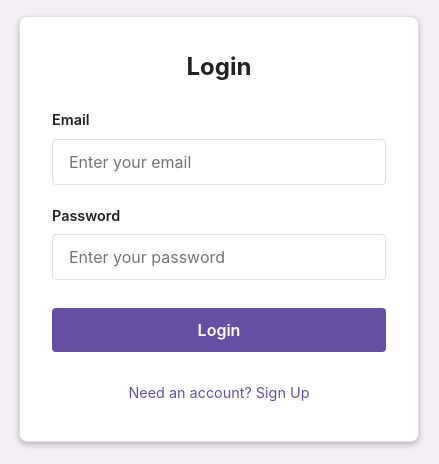
it: Auth Component › switches back to login form when login button is clicked from signup
// Switch to signup first
Click the button "Need an account? Sign Up": click(219, 393) [120,376,318,409]
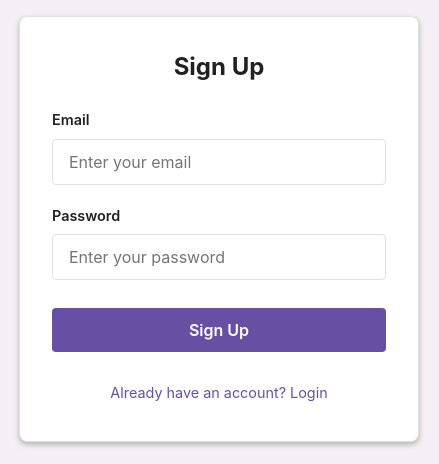
// Now switch back to login
Click the button "Already have an account? Login": click(219, 393) [102,376,336,409]
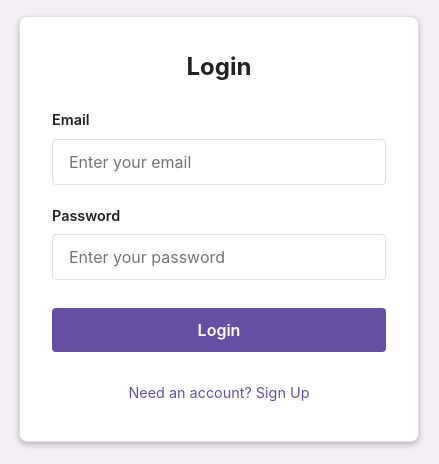
Expected: the heading "Login" is shown, [186,52,251,81]
